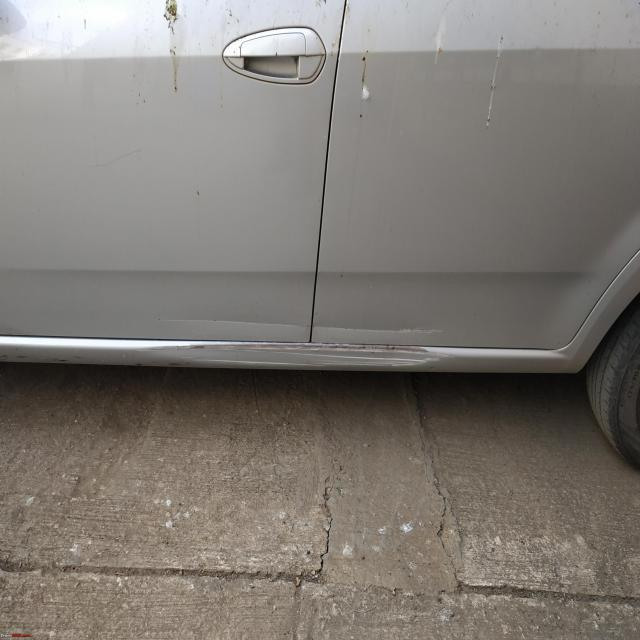RunningBoard-Dent: (141, 316, 438, 379)
doorouter-dent: (2, 3, 314, 340), (313, 0, 584, 348)
